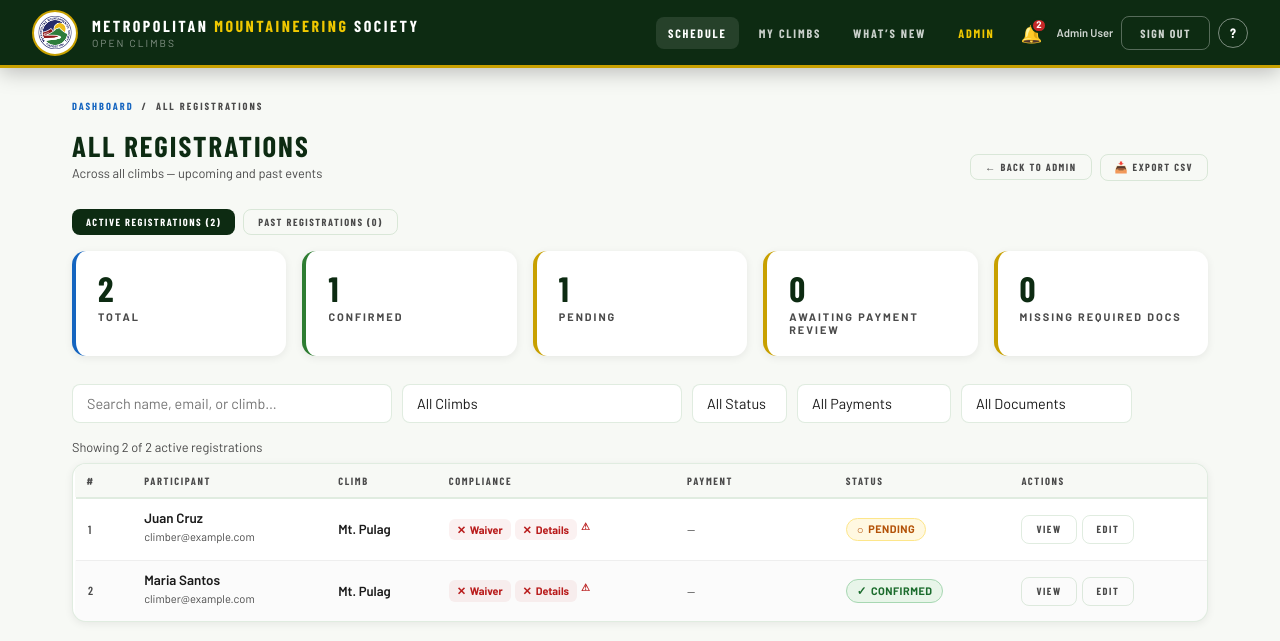
Test case: Admin AllRegistrations › filters registrations by search
Expected: the text "Juan Cruz" is shown, [144,510,203,526]
Type "Maria" into the search field with placeholder "Search name, email, or climb…" at (232, 404), box [72,384,392,423]
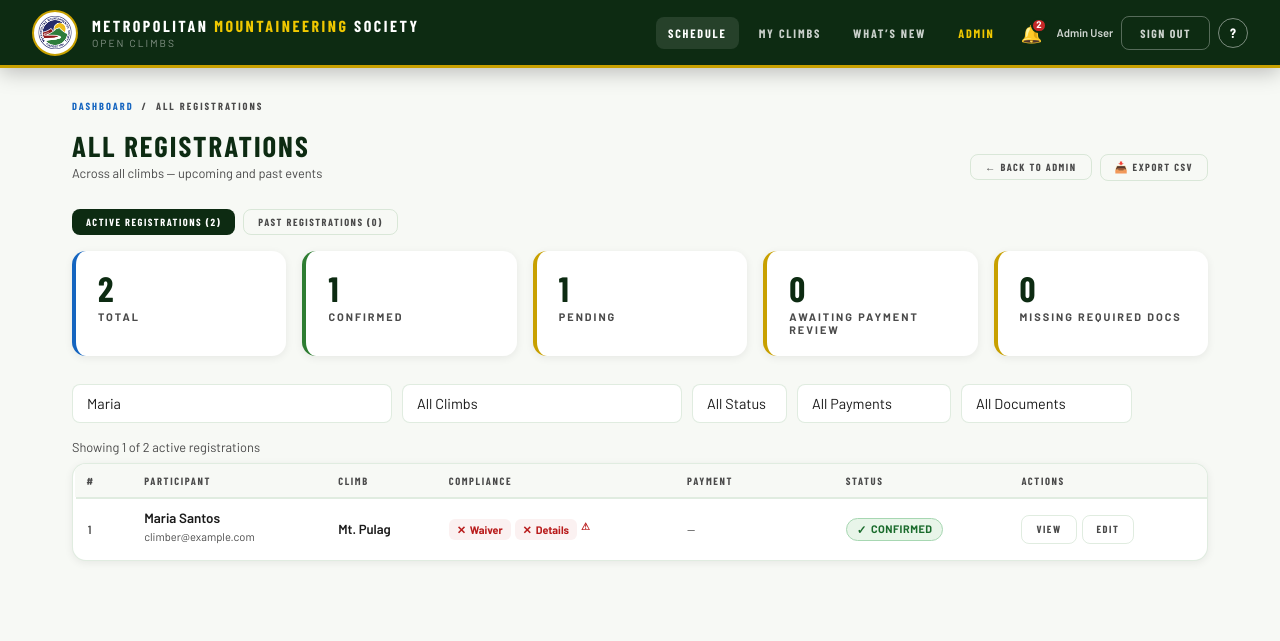
Expected: the text "Maria Santos" is shown, [144,510,220,526]
Now the text "Juan Cruz" is gone
